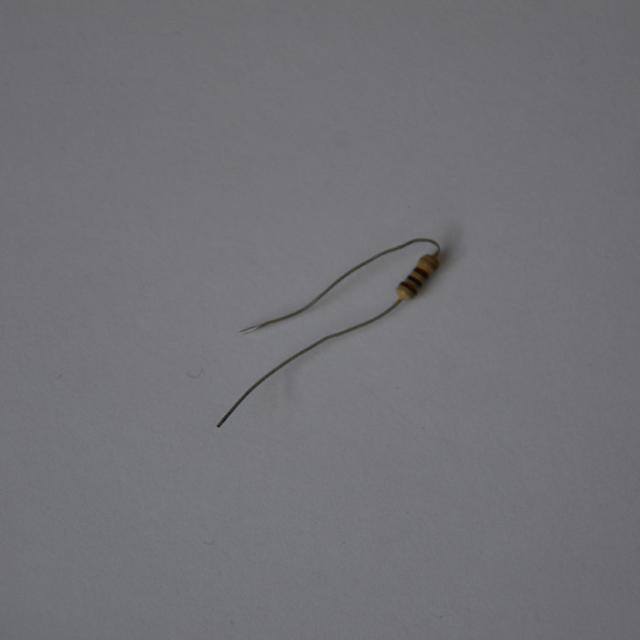Resistor Carbon-Film: (392, 251, 447, 307)
